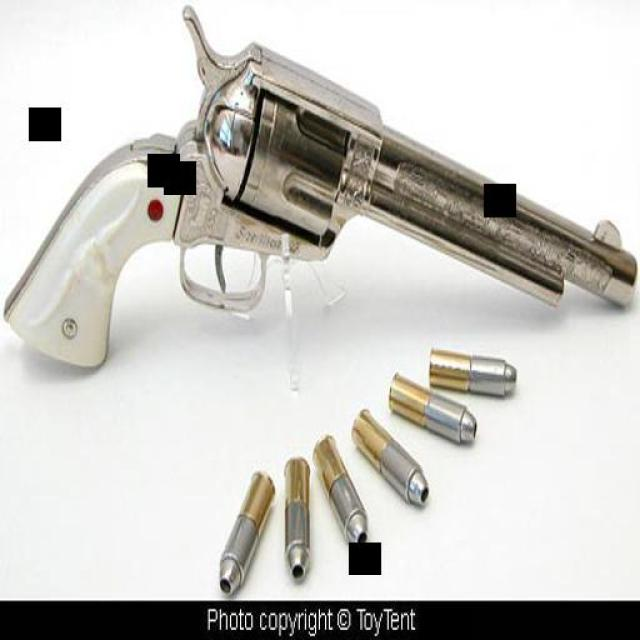gun: (7, 0, 635, 366)
